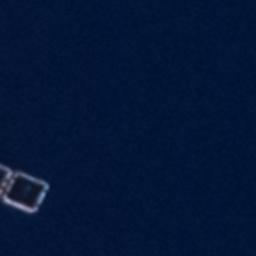square_solid: (1, 167, 54, 220)
